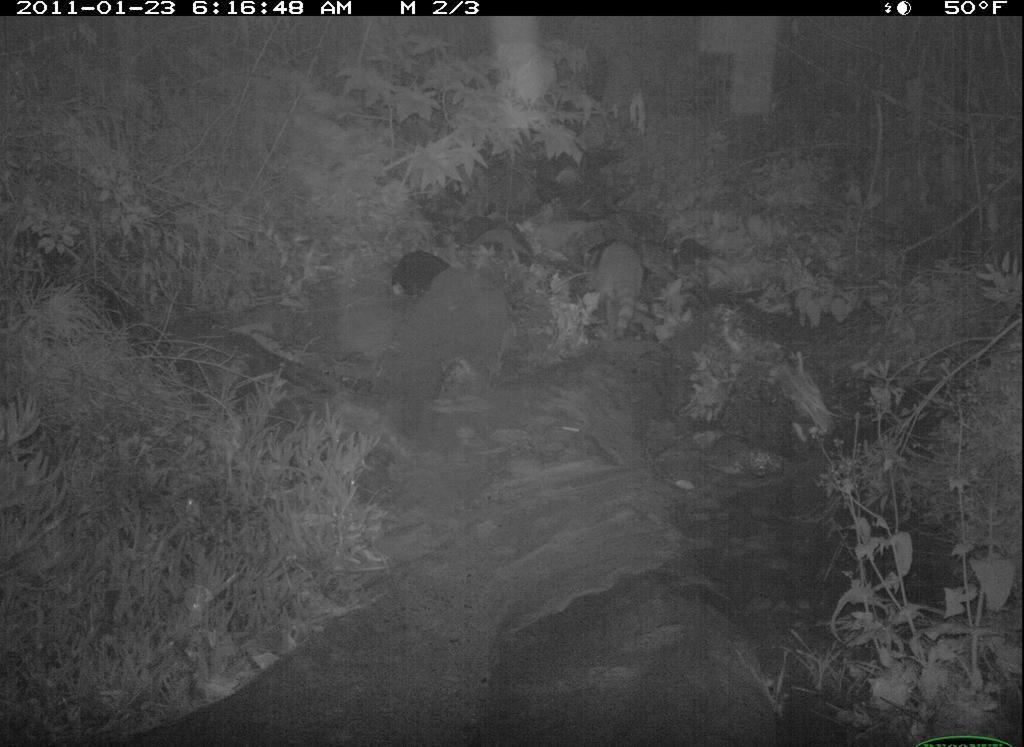raccoon: (575, 232, 661, 340)
